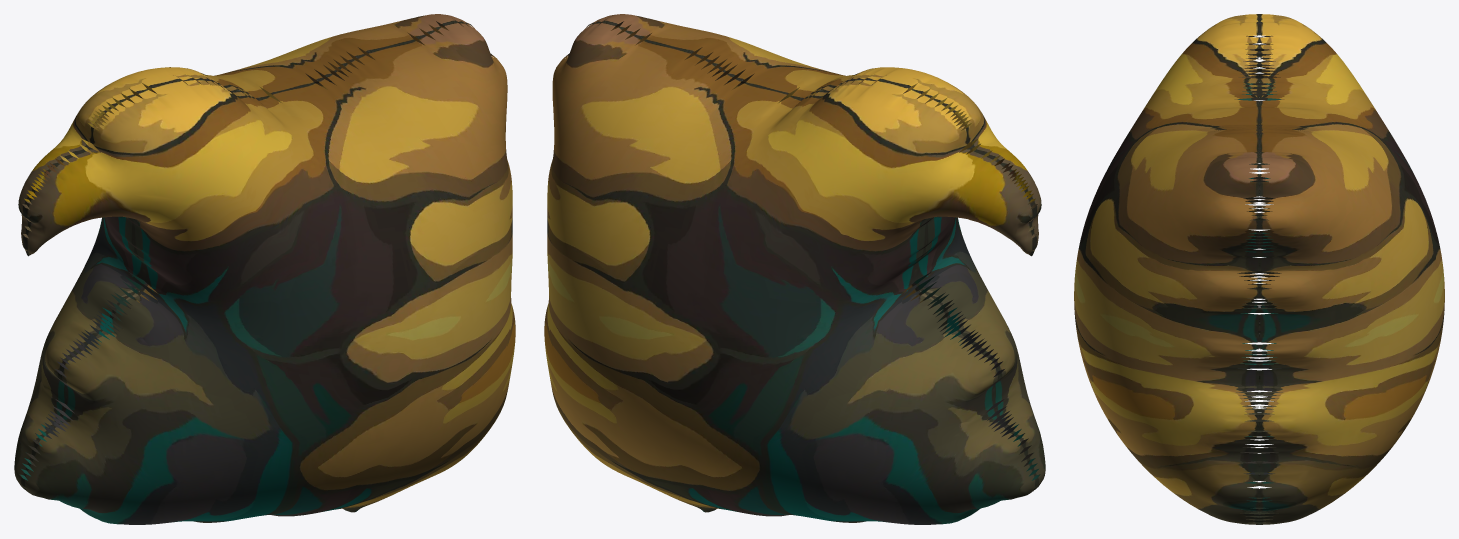
File: terraced_bluff.glb
The picture shows the model from 3 angles, left to right: view 1: azimuth 30°, elevation 25°; view 2: azimuth 150°, elevation 25°; view 3: azimuth 270°, elevation 25°; orthographic projection. The views are drawn at different scales.
Parts seen in each view (by area): view 1: terraced_bluff; view 2: terraced_bluff; view 3: terraced_bluff.
Boxes of the visible parts, x1,y1,x2,y2 form: terraced_bluff: [14, 14, 515, 524]; terraced_bluff: [544, 14, 1045, 524]; terraced_bluff: [1074, 14, 1444, 524].
Bounding box in the file's own units: 0.989 × 0.8898 × 0.7563.
Materials: 1 (1 with a texture image).
